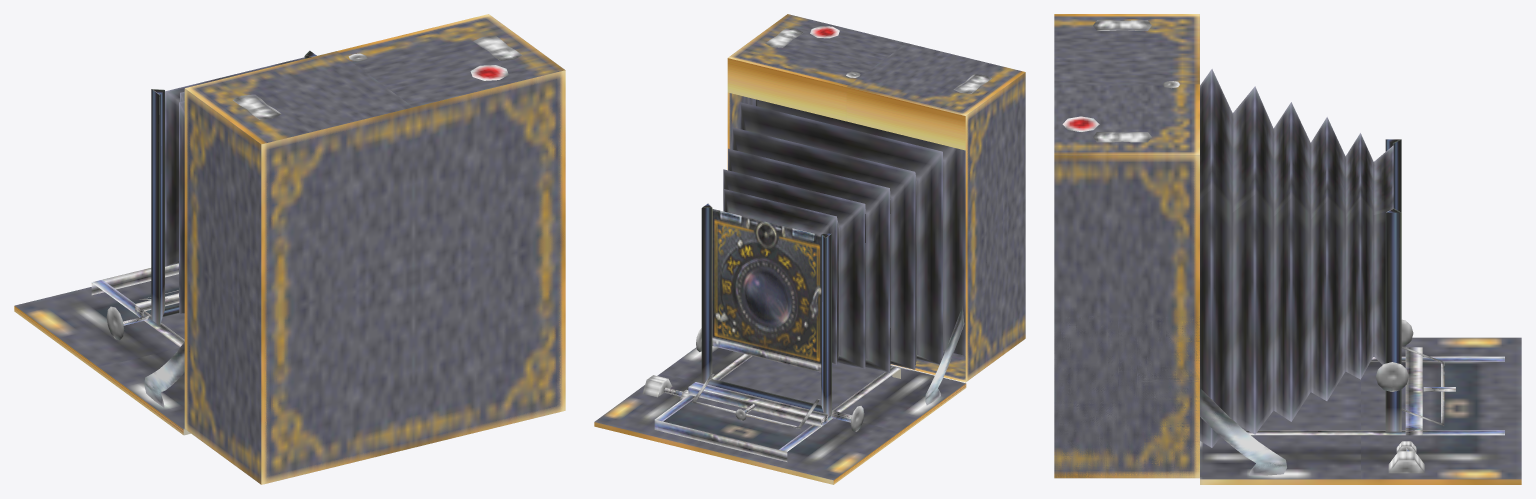
File: ps2_save-icons_fatal-frame.glb
3 views of the same model, side by side, from view 1: azimuth 30°, elevation 25°; view 2: azimuth 150°, elevation 25°; view 3: azimuth 270°, elevation 25° (orthographic). The views are drawn at different scales.
Visible parts, largest first — view 1: zero.ico; view 2: zero.ico; view 3: zero.ico.
Part boxes in pixels (bbox=[...]): zero.ico: bbox=[14, 14, 565, 484]; zero.ico: bbox=[594, 14, 1025, 484]; zero.ico: bbox=[1054, 14, 1521, 484].
Size of the model in its own units: 2.67 by 2.92 by 3.72.
1 material, 1 textured.
